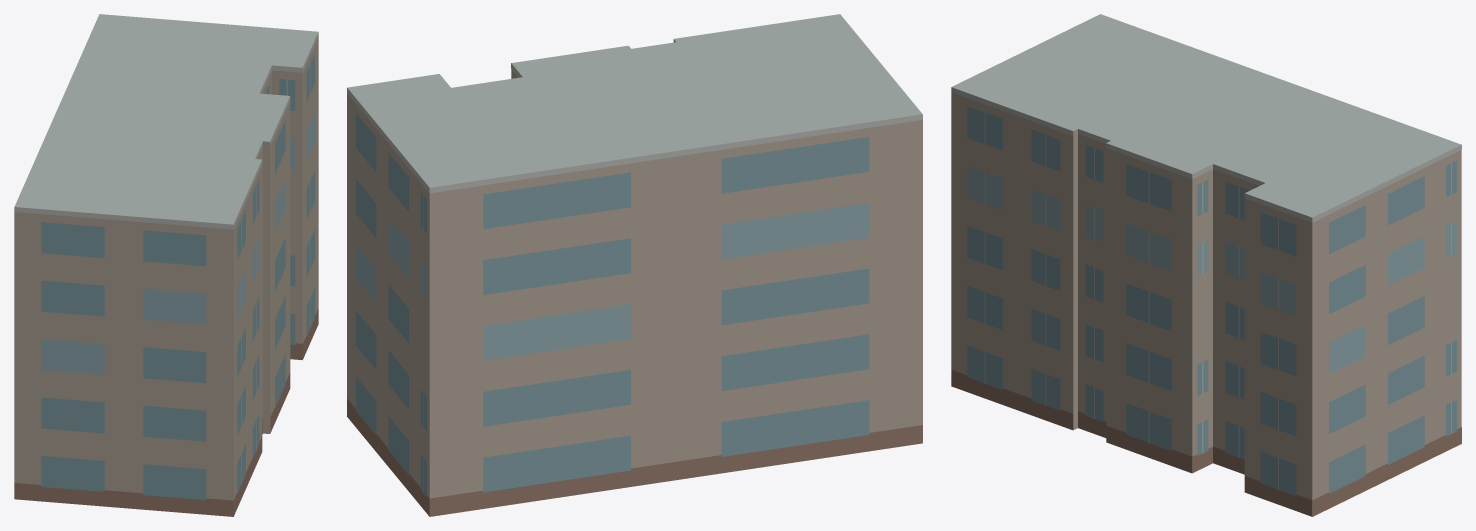
The model's file is survey-upis-32623392.glb.
The picture shows the model from 3 angles, left to right: view 1: azimuth 30°, elevation 25°; view 2: azimuth 150°, elevation 25°; view 3: azimuth 270°, elevation 25°; orthographic projection. The views are drawn at different scales.
Visible parts, largest first — view 1: survey-upis-32623392.tmp; view 2: survey-upis-32623392.tmp; view 3: survey-upis-32623392.tmp.
Boxes of the visible parts, x1=… form: survey-upis-32623392.tmp: x1=14, y1=14, x2=318, y2=516; survey-upis-32623392.tmp: x1=347, y1=14, x2=922, y2=516; survey-upis-32623392.tmp: x1=951, y1=14, x2=1461, y2=516.
Size of the model in its own units: 21.12 by 14.46 by 22.37.
